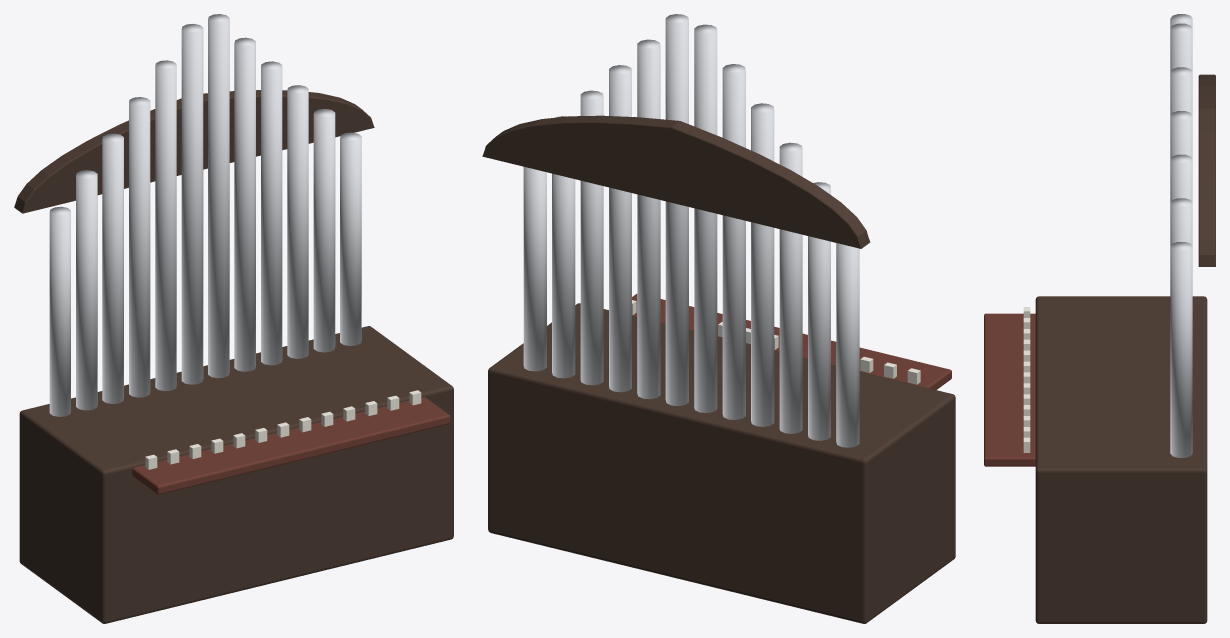
The model's file is instrument_pipe_organ.glb.
3 renders of one model, left to right at view 1: azimuth 30°, elevation 25°; view 2: azimuth 150°, elevation 25°; view 3: azimuth 270°, elevation 25°, orthographic. The views are drawn at different scales.
Parts seen in each view (by area): view 1: GD_instrument_pipe_organ__m0, GD_instrument_pipe_organ__m3, GD_instrument_pipe_organ__m1, GD_instrument_pipe_organ__m2; view 2: GD_instrument_pipe_organ__m0, GD_instrument_pipe_organ__m3, GD_instrument_pipe_organ__m1, GD_instrument_pipe_organ__m2; view 3: GD_instrument_pipe_organ__m0, GD_instrument_pipe_organ__m3, GD_instrument_pipe_organ__m1, GD_instrument_pipe_organ__m2.
Part boxes in pixels (left/top/right/bottom): GD_instrument_pipe_organ__m0: left=14, top=90, right=453, bottom=623; GD_instrument_pipe_organ__m3: left=49, top=14, right=361, bottom=416; GD_instrument_pipe_organ__m1: left=132, top=397, right=450, bottom=494; GD_instrument_pipe_organ__m2: left=145, top=390, right=421, bottom=469; GD_instrument_pipe_organ__m0: left=482, top=115, right=955, bottom=623; GD_instrument_pipe_organ__m3: left=523, top=14, right=859, bottom=447; GD_instrument_pipe_organ__m1: left=632, top=294, right=951, bottom=389; GD_instrument_pipe_organ__m2: left=632, top=300, right=920, bottom=384; GD_instrument_pipe_organ__m0: left=1035, top=74, right=1215, bottom=623; GD_instrument_pipe_organ__m3: left=1170, top=14, right=1192, bottom=457; GD_instrument_pipe_organ__m1: left=984, top=313, right=1035, bottom=466; GD_instrument_pipe_organ__m2: left=1023, top=307, right=1030, bottom=452.
Bounding box in the file's own units: 2.4 × 3.31 × 1.35.
